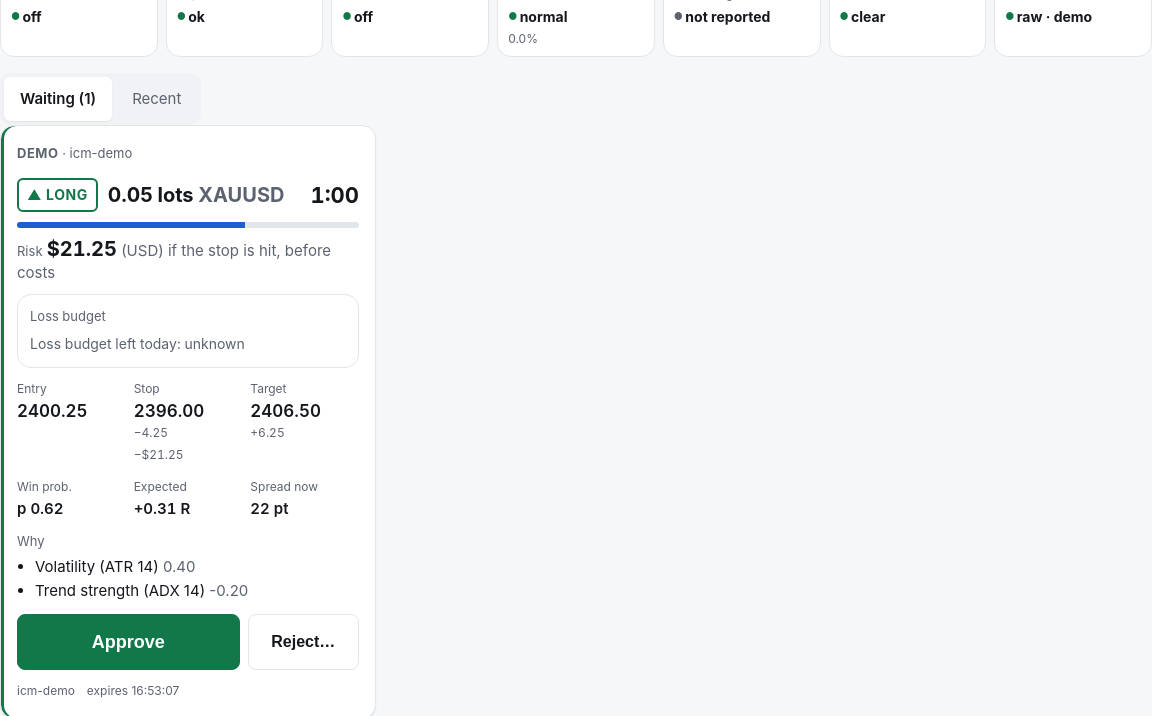
Scenario: Approvals › shows a refused decision on the card
(page scrolled)
What coordinates should you click on to do the following:
click the button "Approve"
I would click on:
 (128, 642)
Its box is [17,614,240,670].
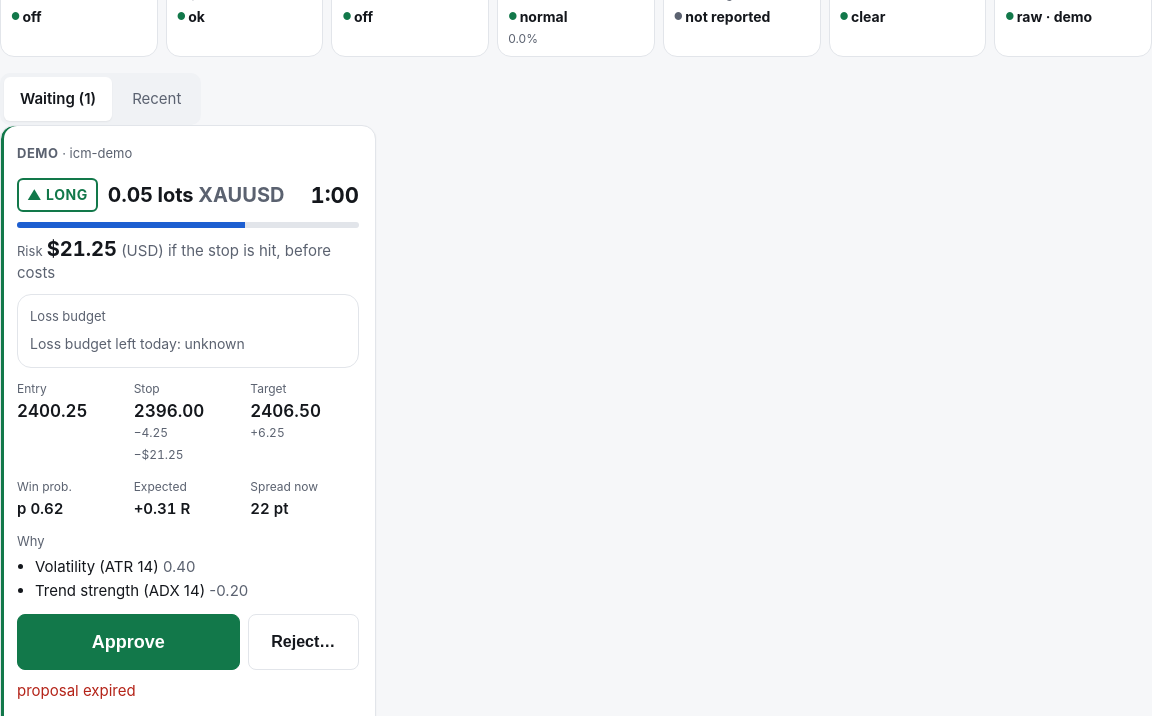
expect the message reads "proposal expired": met, box [17,681,136,700]
